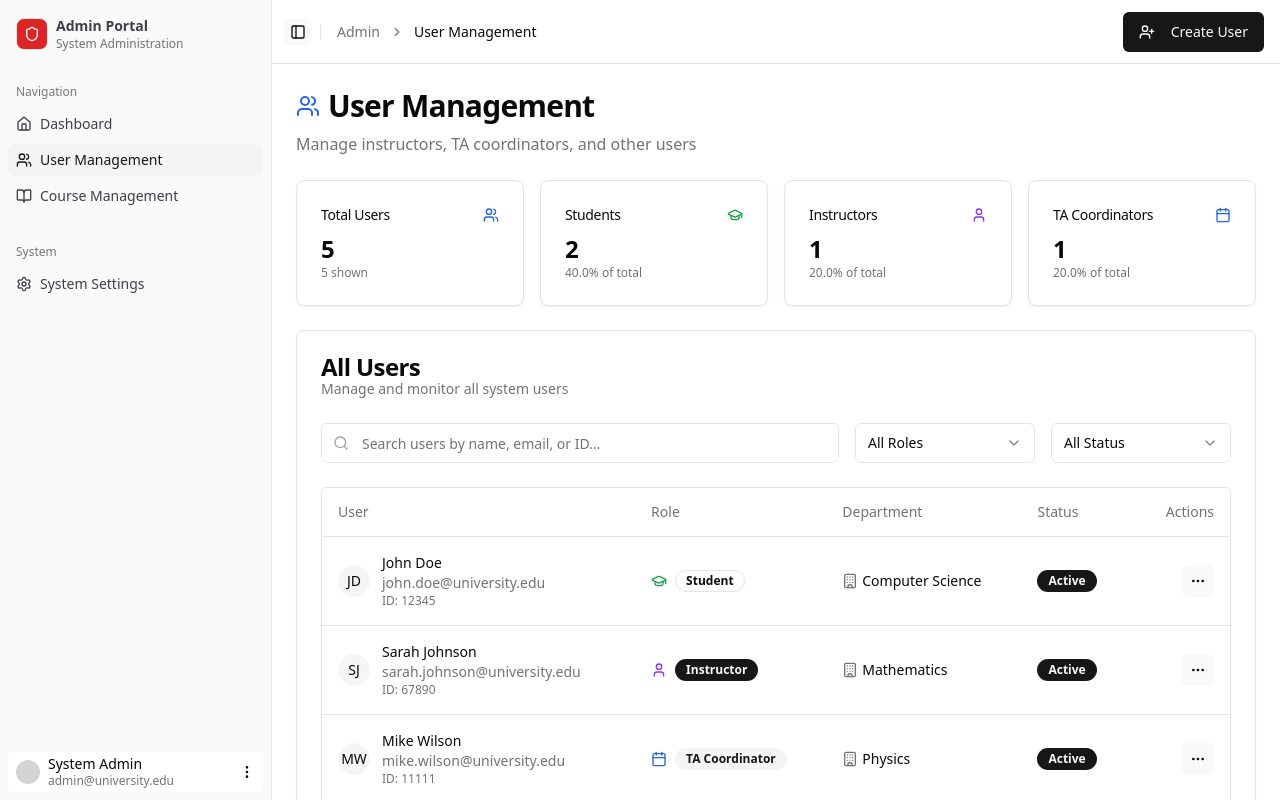
UserManagement › Search and Filtering › shows no users message when filters return empty results
Expected: the text "John Doe" is shown, [382,552,442,572]
Type "nonexistent user" into the field with placeholder "Search users by name, email, or ID..." at [580, 443], box [321,423,839,463]
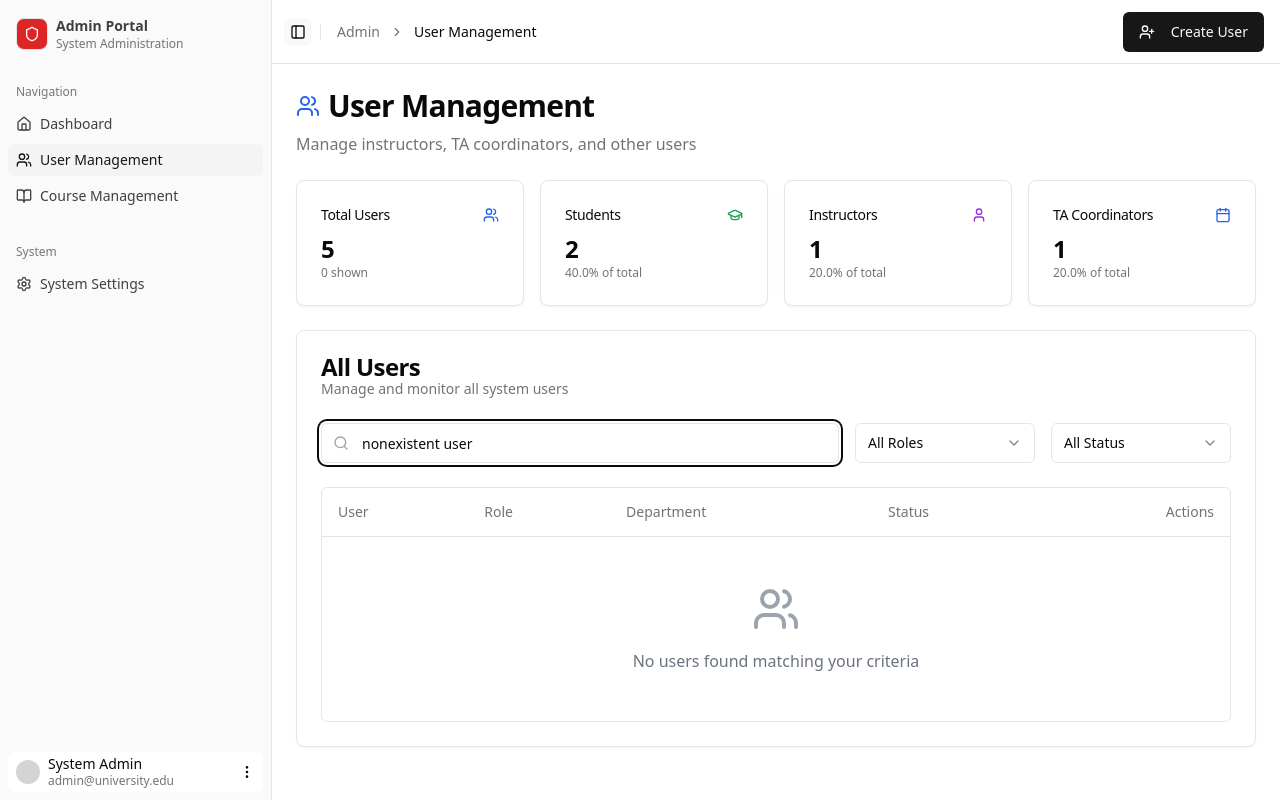
Result: the text "No users found matching your criteria" is shown at [633,650,919,672]
